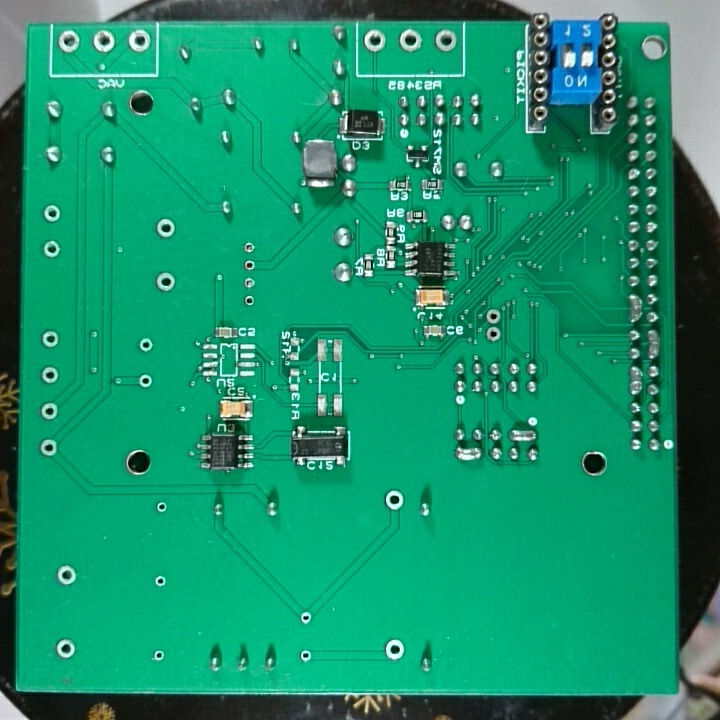F: (397, 27, 425, 55), (361, 26, 388, 55), (56, 28, 83, 55), (127, 28, 153, 55), (90, 28, 116, 55), (433, 27, 458, 55), (382, 637, 408, 663), (54, 563, 79, 588), (381, 488, 407, 512), (154, 216, 178, 240), (54, 637, 77, 660), (154, 271, 178, 293), (39, 364, 62, 386), (39, 327, 61, 349), (41, 238, 62, 261), (42, 201, 62, 225), (39, 399, 59, 423), (39, 436, 57, 459), (484, 306, 504, 325), (483, 325, 504, 343), (297, 646, 314, 666), (153, 499, 171, 517), (152, 572, 169, 591), (137, 336, 154, 354), (297, 609, 314, 627), (240, 275, 259, 291), (151, 647, 167, 664), (137, 372, 153, 389), (242, 291, 257, 309), (242, 240, 257, 256), (242, 257, 257, 272)
P: (625, 363, 647, 398), (625, 291, 645, 325), (505, 426, 541, 444), (452, 444, 485, 463), (645, 327, 662, 360)
